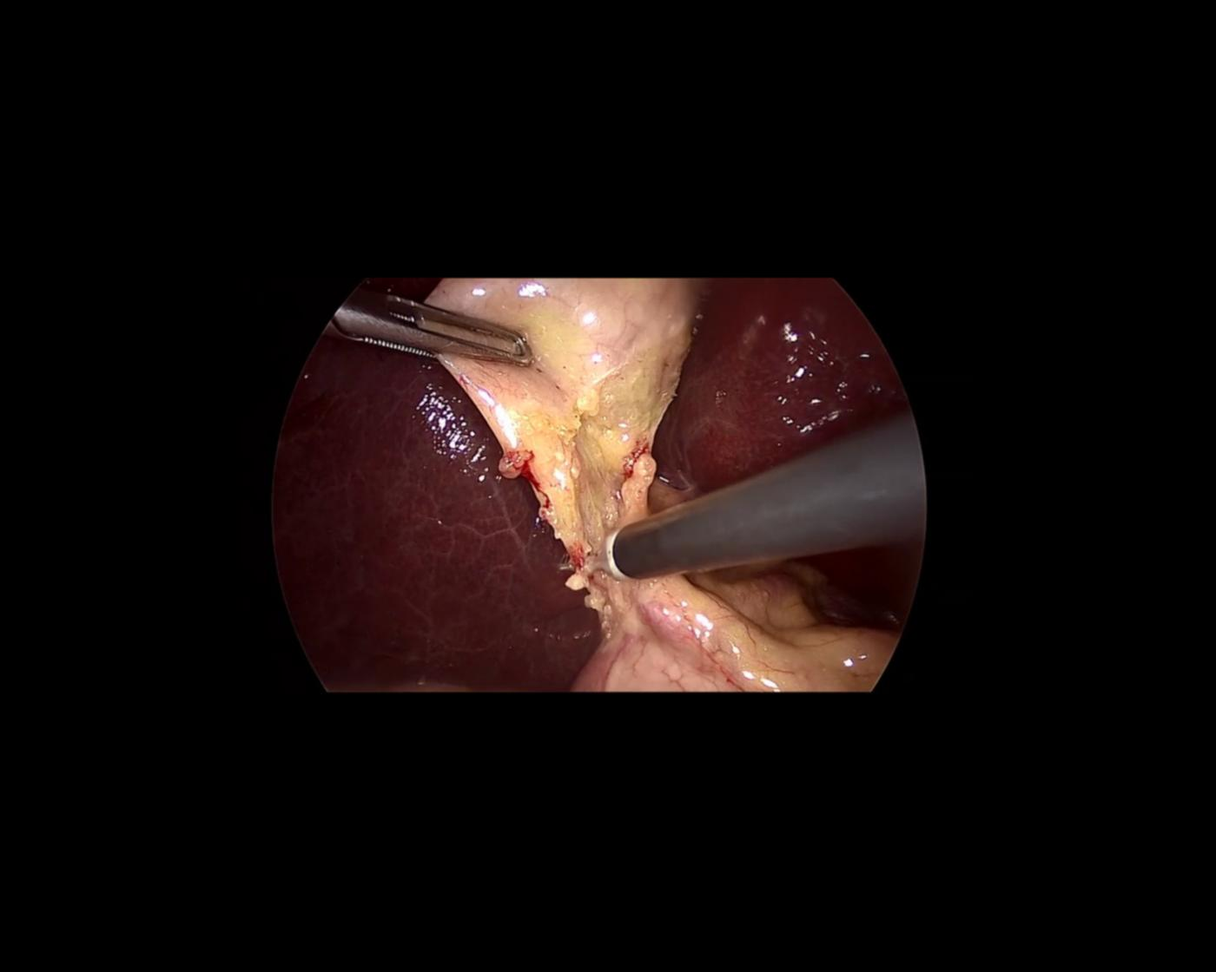Cautery: (582, 411, 934, 586)
Forceps: (327, 273, 541, 398)
Gallbladder: (415, 280, 710, 497)
Liver: (271, 330, 603, 691), (597, 229, 912, 509)
